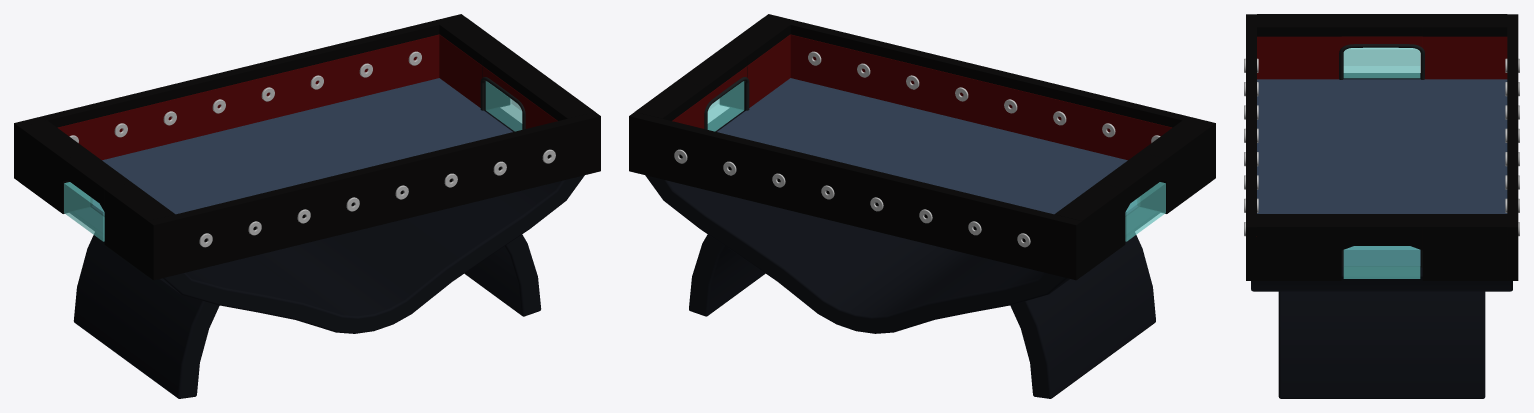
File: fuzeball_table_circuit.glb
3 renders of one model, left to right at view 1: azimuth 30°, elevation 25°; view 2: azimuth 150°, elevation 25°; view 3: azimuth 270°, elevation 25°, orthographic. The views are drawn at different scales.
Visible parts, largest first — view 1: table_base.001, wall_side_near.001, field.001, wall_side_far.001, wall_end_l_far.001, wall_end_r_far.001, wall_end_l_near.001, wall_end_r_near.001, goal_frame_header_l.001, goal_frame_header_r.001, goal_net_left.001, goal_net_right.001; view 2: table_base.001, wall_side_far.001, field.001, wall_side_near.001, wall_end_l_near.001, wall_end_r_near.001, wall_end_l_far.001, wall_end_r_far.001, goal_frame_header_l.001, goal_frame_header_r.001, goal_net_left.001, goal_net_right.001; view 3: field.001, table_base.001, wall_end_r_far.001, wall_end_r_near.001, wall_end_l_far.001, wall_end_l_near.001, wall_side_far.001, wall_side_near.001, goal_frame_header_r.001, goal_net_right.001, goal_frame_header_l.001, goal_net_left.001 (+1 smaller).
Boxes of the visible parts, left/top/right/bottom form: table_base.001: left=70, top=108, right=584, bottom=398; wall_side_near.001: left=148, top=112, right=600, bottom=280; field.001: left=92, top=78, right=512, bottom=215; wall_side_far.001: left=14, top=14, right=466, bottom=181; wall_end_l_far.001: left=19, top=120, right=90, bottom=213; wall_end_r_far.001: left=439, top=18, right=509, bottom=110; wall_end_l_near.001: left=104, top=182, right=175, bottom=275; wall_end_r_near.001: left=524, top=80, right=594, bottom=128; goal_frame_header_l.001: left=63, top=152, right=131, bottom=211; goal_frame_header_r.001: left=483, top=49, right=551, bottom=107; goal_net_left.001: left=64, top=182, right=104, bottom=241; goal_net_right.001: left=485, top=81, right=522, bottom=131; table_base.001: left=645, top=108, right=1159, bottom=398; wall_side_far.001: left=629, top=112, right=1081, bottom=280; field.001: left=717, top=78, right=1137, bottom=215; wall_side_near.001: left=763, top=14, right=1215, bottom=181; wall_end_l_near.001: left=1139, top=120, right=1210, bottom=213; wall_end_r_near.001: left=720, top=18, right=790, bottom=110; wall_end_l_far.001: left=1054, top=182, right=1125, bottom=275; wall_end_r_far.001: left=635, top=80, right=705, bottom=128; goal_frame_header_l.001: left=1098, top=152, right=1166, bottom=211; goal_frame_header_r.001: left=678, top=49, right=746, bottom=107; goal_net_left.001: left=1125, top=182, right=1165, bottom=241; goal_net_right.001: left=707, top=81, right=744, bottom=131; field.001: left=1257, top=79, right=1507, bottom=265; table_base.001: left=1251, top=73, right=1512, bottom=398; wall_end_r_far.001: left=1422, top=214, right=1507, bottom=280; wall_end_r_near.001: left=1257, top=214, right=1341, bottom=280; wall_end_l_far.001: left=1422, top=14, right=1507, bottom=79; wall_end_l_near.001: left=1257, top=14, right=1341, bottom=79; wall_side_far.001: left=1507, top=14, right=1518, bottom=280; wall_side_near.001: left=1246, top=14, right=1256, bottom=280; goal_frame_header_r.001: left=1341, top=214, right=1422, bottom=250; goal_net_right.001: left=1343, top=246, right=1420, bottom=278; goal_frame_header_l.001: left=1341, top=14, right=1422, bottom=47; goal_net_left.001: left=1343, top=47, right=1420, bottom=78.
Bounding box in the file's own units: 137 × 58.26 × 74.9.
